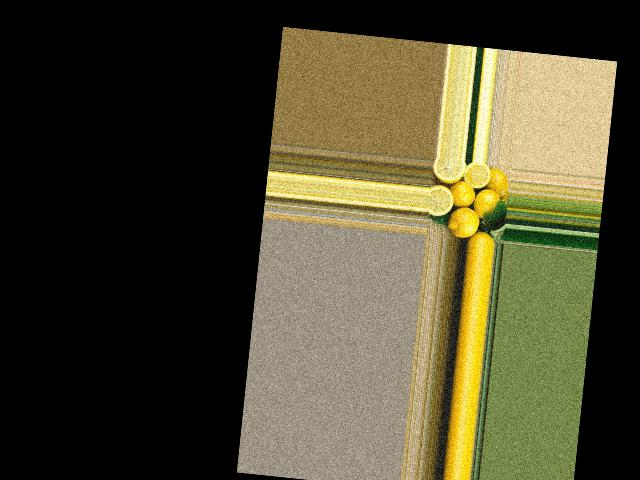lemon: (485, 167, 510, 198)
